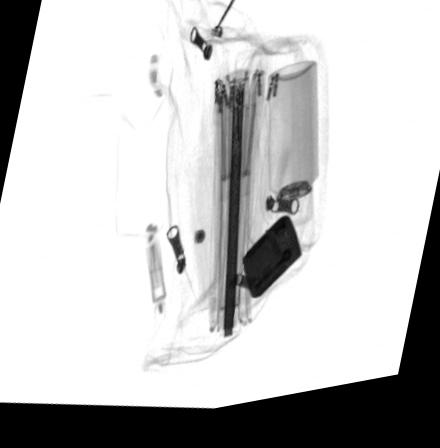Lighter: (241, 226, 301, 308)
Sprayer: (267, 70, 318, 241)
